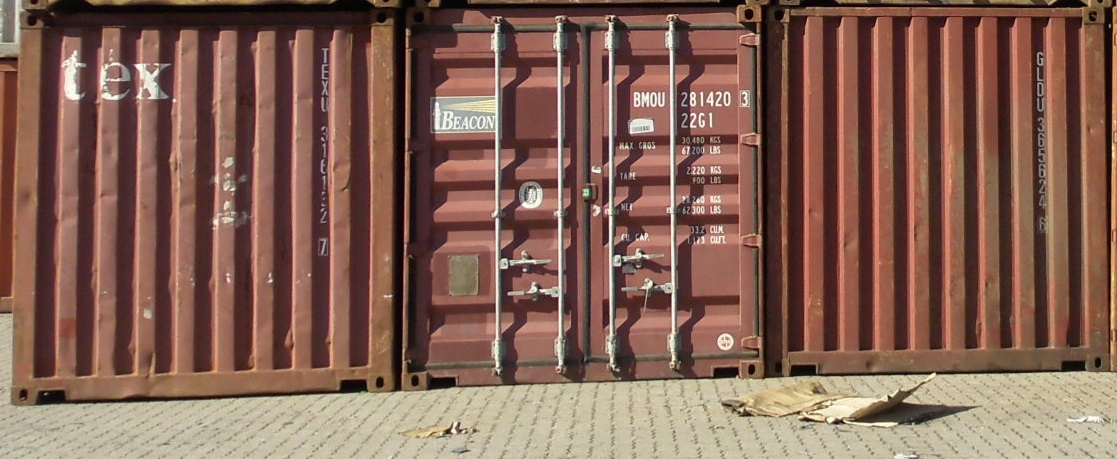container_door: (411, 10, 769, 384)
container_no_door: (14, 11, 398, 387), (779, 1, 1117, 374)
